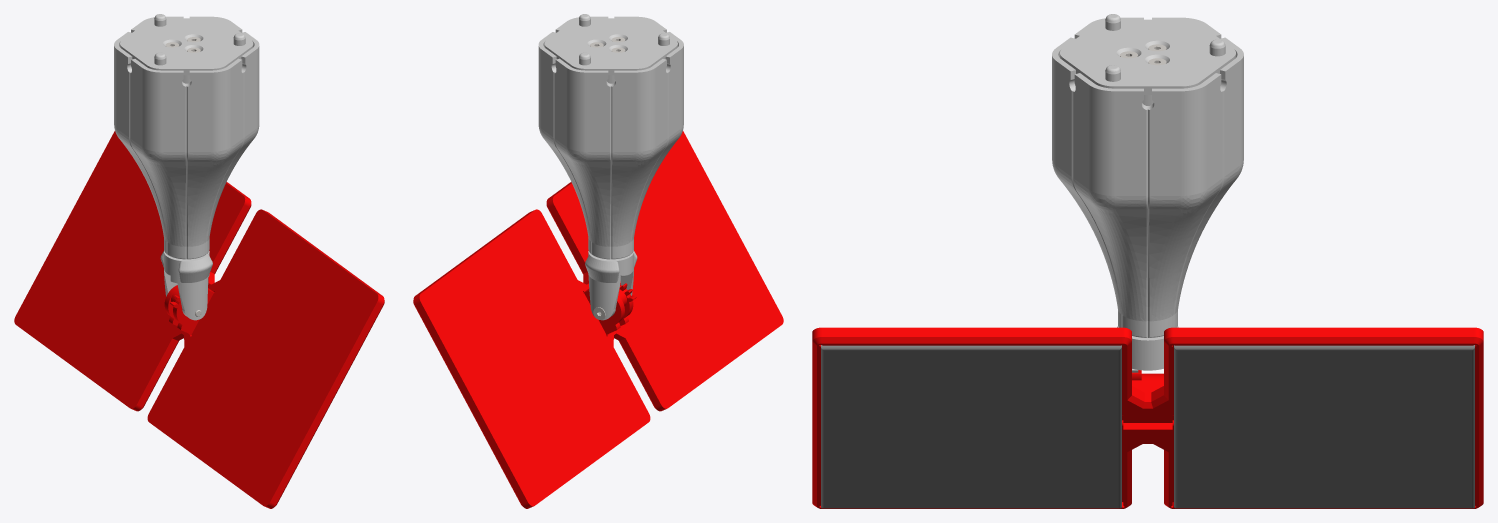
File: 3 - Модуль солнечных панелей.fbx
3 views of the same model, side by side, from view 1: azimuth 30°, elevation 25°; view 2: azimuth 150°, elevation 25°; view 3: azimuth 270°, elevation 25° (orthographic). The views are drawn at different scales.
Parts seen in each view (by area): view 1: imagetostl_mesh8, imagetostl_mesh1, imagetostl_mesh0; view 2: imagetostl_mesh8, imagetostl_mesh1, imagetostl_mesh0; view 3: imagetostl_mesh12, imagetostl_mesh1, imagetostl_mesh8, imagetostl_mesh0.
Boxes of the visible parts, bbox=[...] form: imagetostl_mesh8: bbox=[14, 131, 384, 508]; imagetostl_mesh1: bbox=[114, 16, 259, 320]; imagetostl_mesh0: bbox=[114, 14, 259, 319]; imagetostl_mesh8: bbox=[413, 131, 783, 508]; imagetostl_mesh1: bbox=[538, 14, 683, 320]; imagetostl_mesh0: bbox=[541, 16, 683, 316]; imagetostl_mesh12: bbox=[821, 345, 1474, 508]; imagetostl_mesh1: bbox=[1052, 14, 1243, 372]; imagetostl_mesh8: bbox=[812, 327, 1483, 508]; imagetostl_mesh0: bbox=[1052, 14, 1239, 370].
Bounding box in the file's own units: 6287 × 17152 × 21200.
